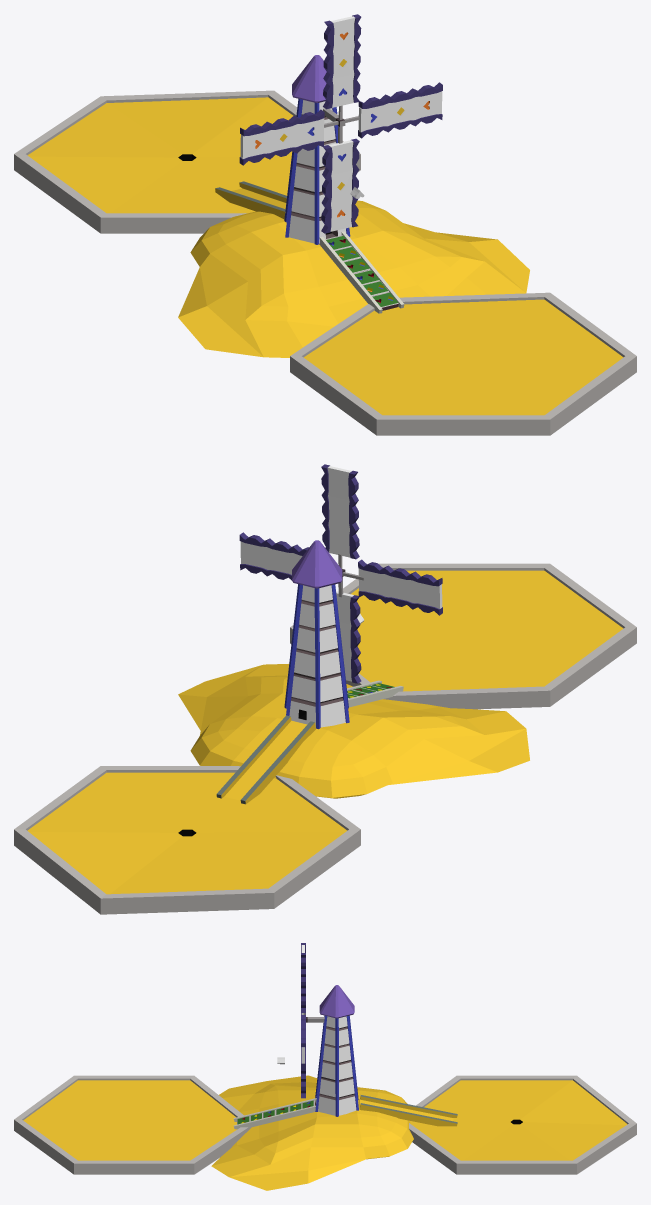
File: moline.glb
The picture shows the model from 3 angles, top to bottom: view 1: azimuth 30°, elevation 25°; view 2: azimuth 150°, elevation 25°; view 3: azimuth 270°, elevation 25°; orthographic projection. The views are drawn at different scales.
Parts seen in each view (by area): view 1: ground, Cube, body, path, Cube.001; view 2: ground, Cube, body, Cube.001, path; view 3: ground, body, Cube.001, path, Cube.
Boxes of the visible parts, x1,y1,x2,y2 form: ground: [14, 90, 636, 435]; Cube: [239, 14, 442, 233]; body: [284, 55, 350, 244]; path: [319, 231, 404, 313]; Cube.001: [215, 181, 286, 218]; ground: [14, 563, 636, 914]; Cube: [239, 464, 442, 683]; body: [284, 540, 349, 729]; Cube.001: [216, 715, 315, 804]; path: [347, 680, 403, 707]; ground: [14, 1075, 636, 1190]; body: [315, 985, 358, 1116]; Cube.001: [359, 1095, 457, 1126]; path: [233, 1098, 316, 1129]; Cube: [301, 943, 324, 1098].
Bounding box in the file's own units: 216 × 173 × 518.
1 material, 1 textured.
